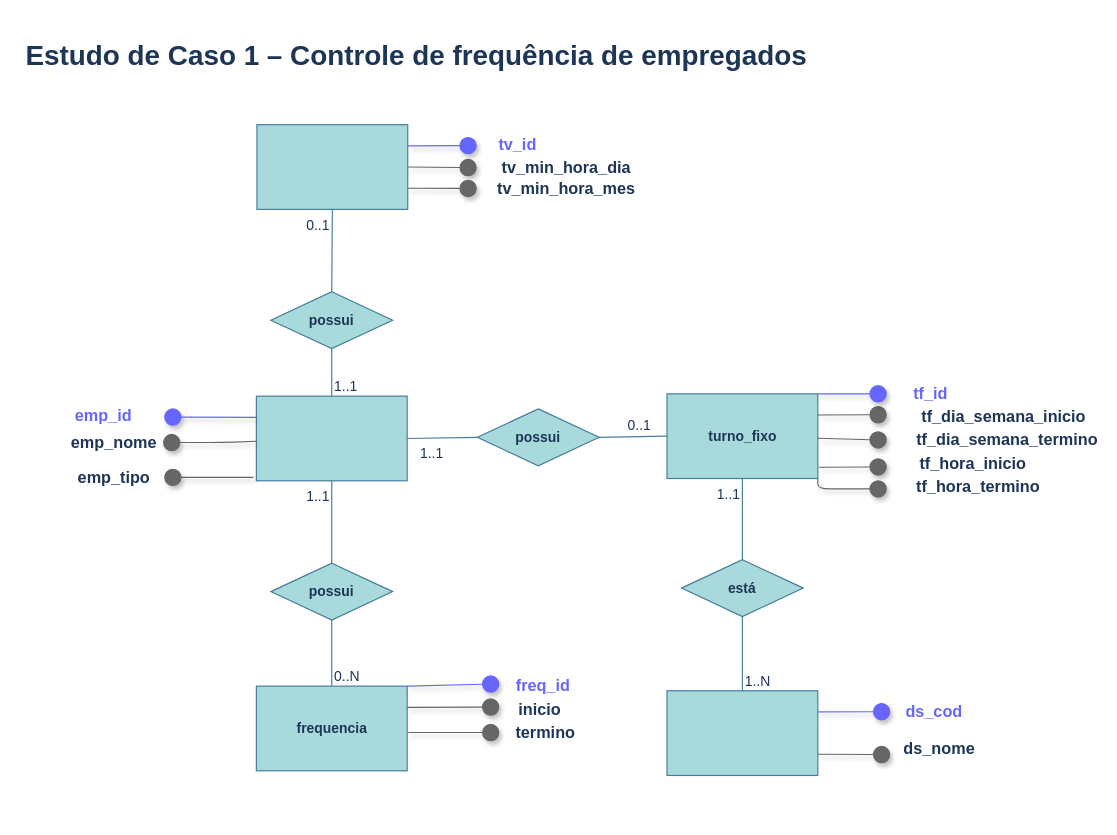
The diagram is 1117 pixels wide and 835 high, and some of its shapes have lost their labels. Each missing label, with the centre of its shape:
dia_semana: the point at 742,732
empregado: the point at 331,438
turno_variavel: the point at 332,166
